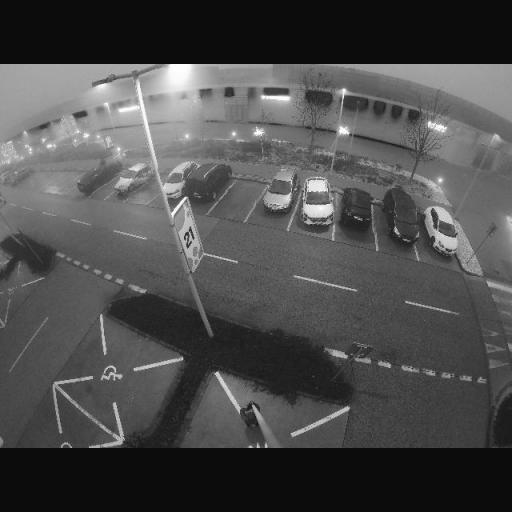busy: (295, 171, 342, 229), (378, 189, 424, 246), (423, 204, 465, 258), (260, 168, 302, 214), (336, 188, 379, 232), (190, 164, 231, 202), (112, 162, 154, 198), (158, 163, 198, 199), (0, 234, 28, 282), (79, 163, 118, 194)
free: (226, 188, 257, 214), (93, 175, 120, 198), (138, 182, 161, 207)
